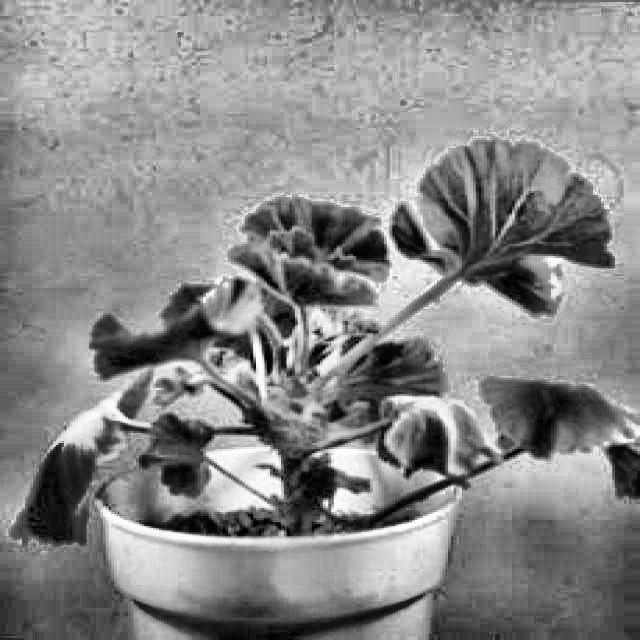plants: (12, 272, 637, 639)
